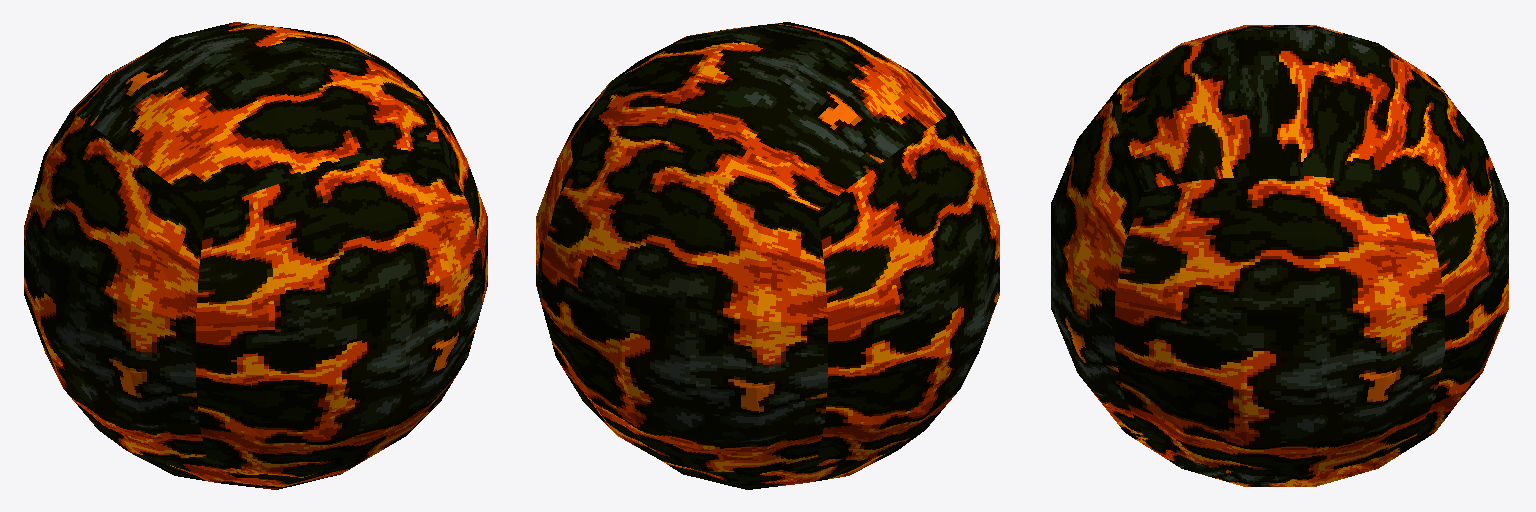
3 renders of one model, left to right at view 1: azimuth 30°, elevation 25°; view 2: azimuth 150°, elevation 25°; view 3: azimuth 270°, elevation 25°, orthographic.
Visible parts, largest first — view 1: 300.018; view 2: 300.018; view 3: 300.018.
Boxes of the visible parts, box(x1,y1,x2,y2) form: 300.018: box(24, 22, 487, 489); 300.018: box(536, 22, 999, 489); 300.018: box(1051, 25, 1508, 486).
Size of the model in its own units: 3.36 by 3.36 by 3.36.
Materials: 1 (1 with a texture image).